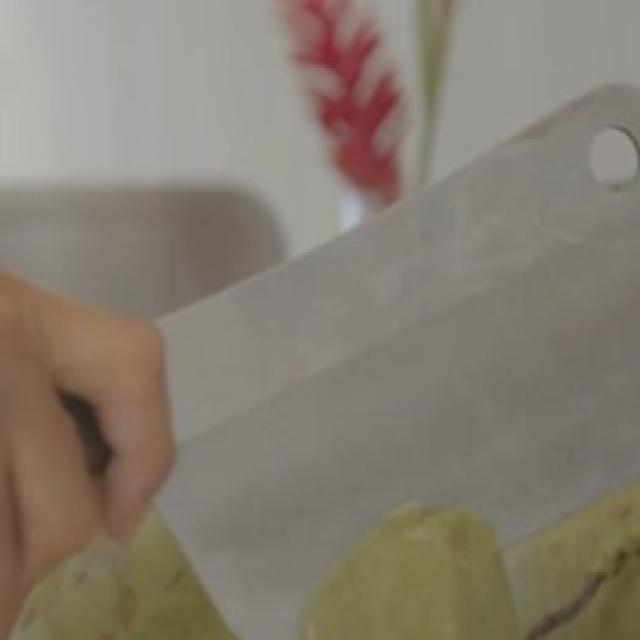knives: (99, 44, 640, 640)
